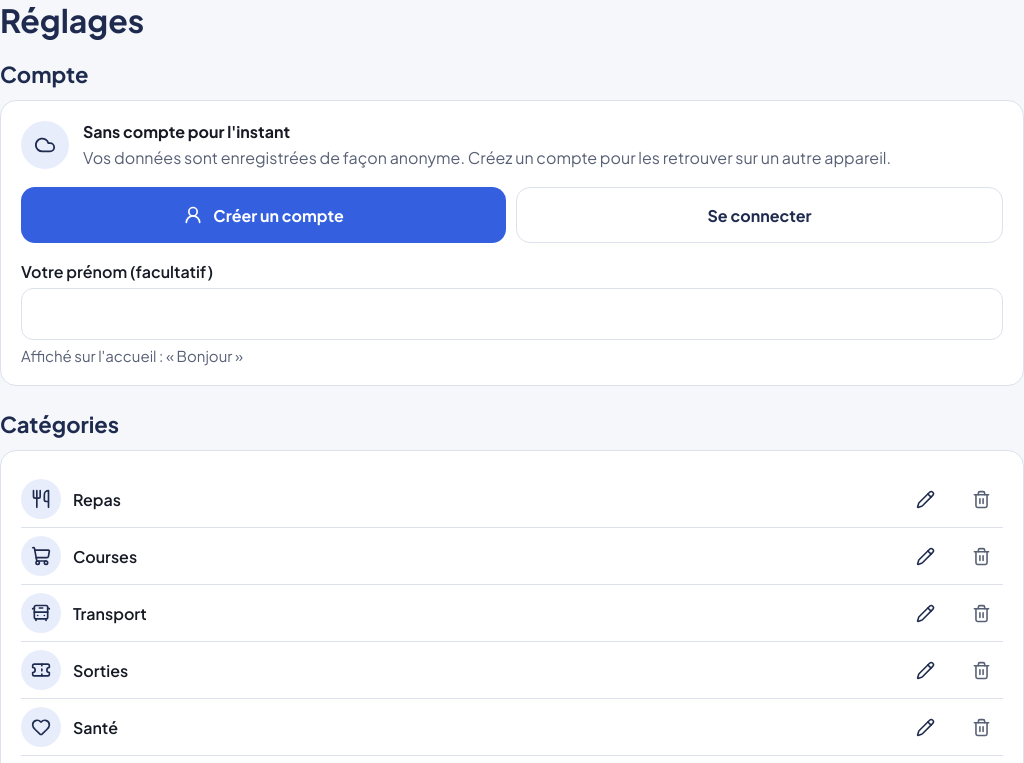
Réglages › supprimer une catégorie › sans dépense : pas de menu
This screenshot has width=1024, height=763.
Step 1. Click the button named "Supprimer Sorties" → (981,670), box [959,648,1003,692]
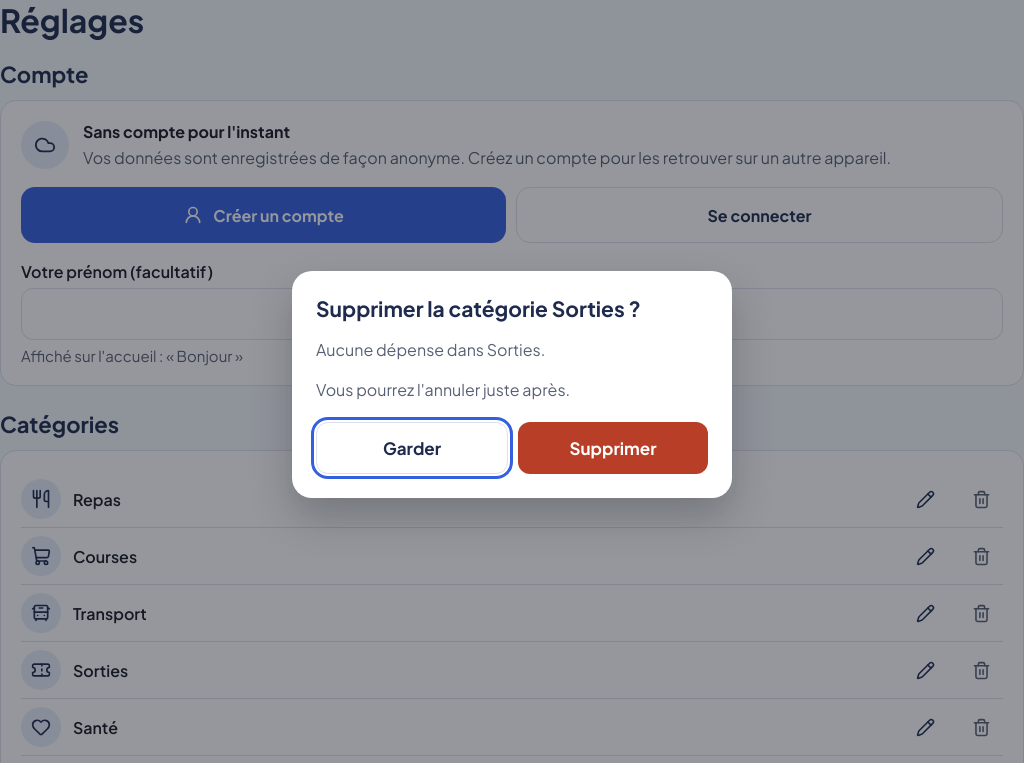
Expected: the dialog shows "Aucune dépense dans Sorties.", [316,338,545,360]
